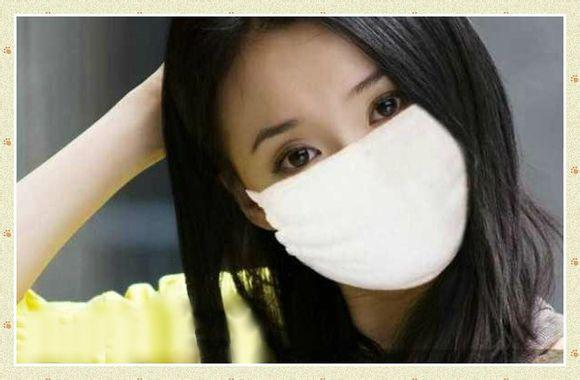OK: (260, 78, 472, 290)
